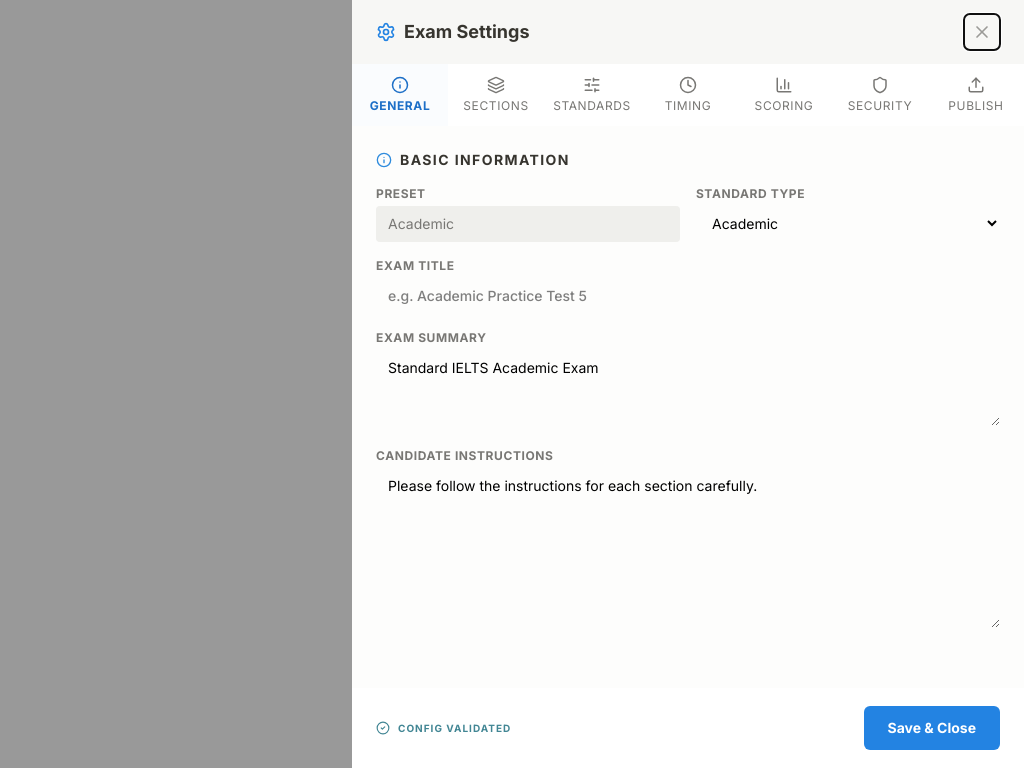
it: ExamSettingsDrawer standards validation › surfaces band score table errors
Click the button "Standards": [592, 95] box top-left (544, 64), bottom-right (640, 126)
(page scrolled)
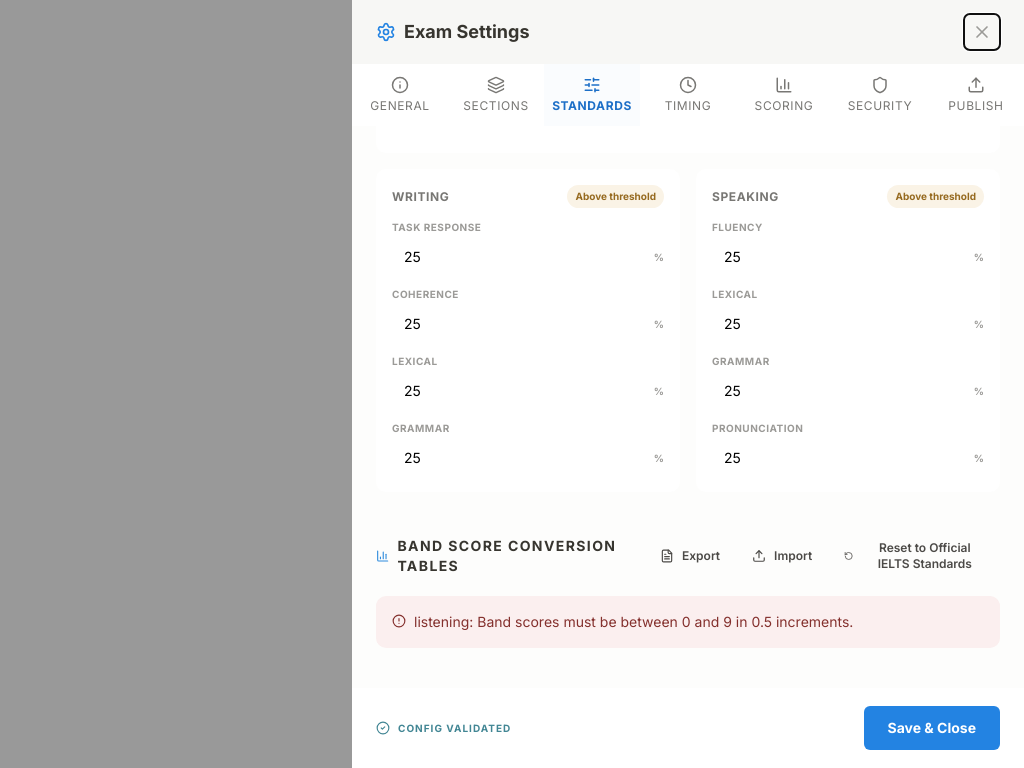
expect the text "Band scores must be between 0 and 9" is shown: met, box top-left (477, 613), bottom-right (853, 630)
